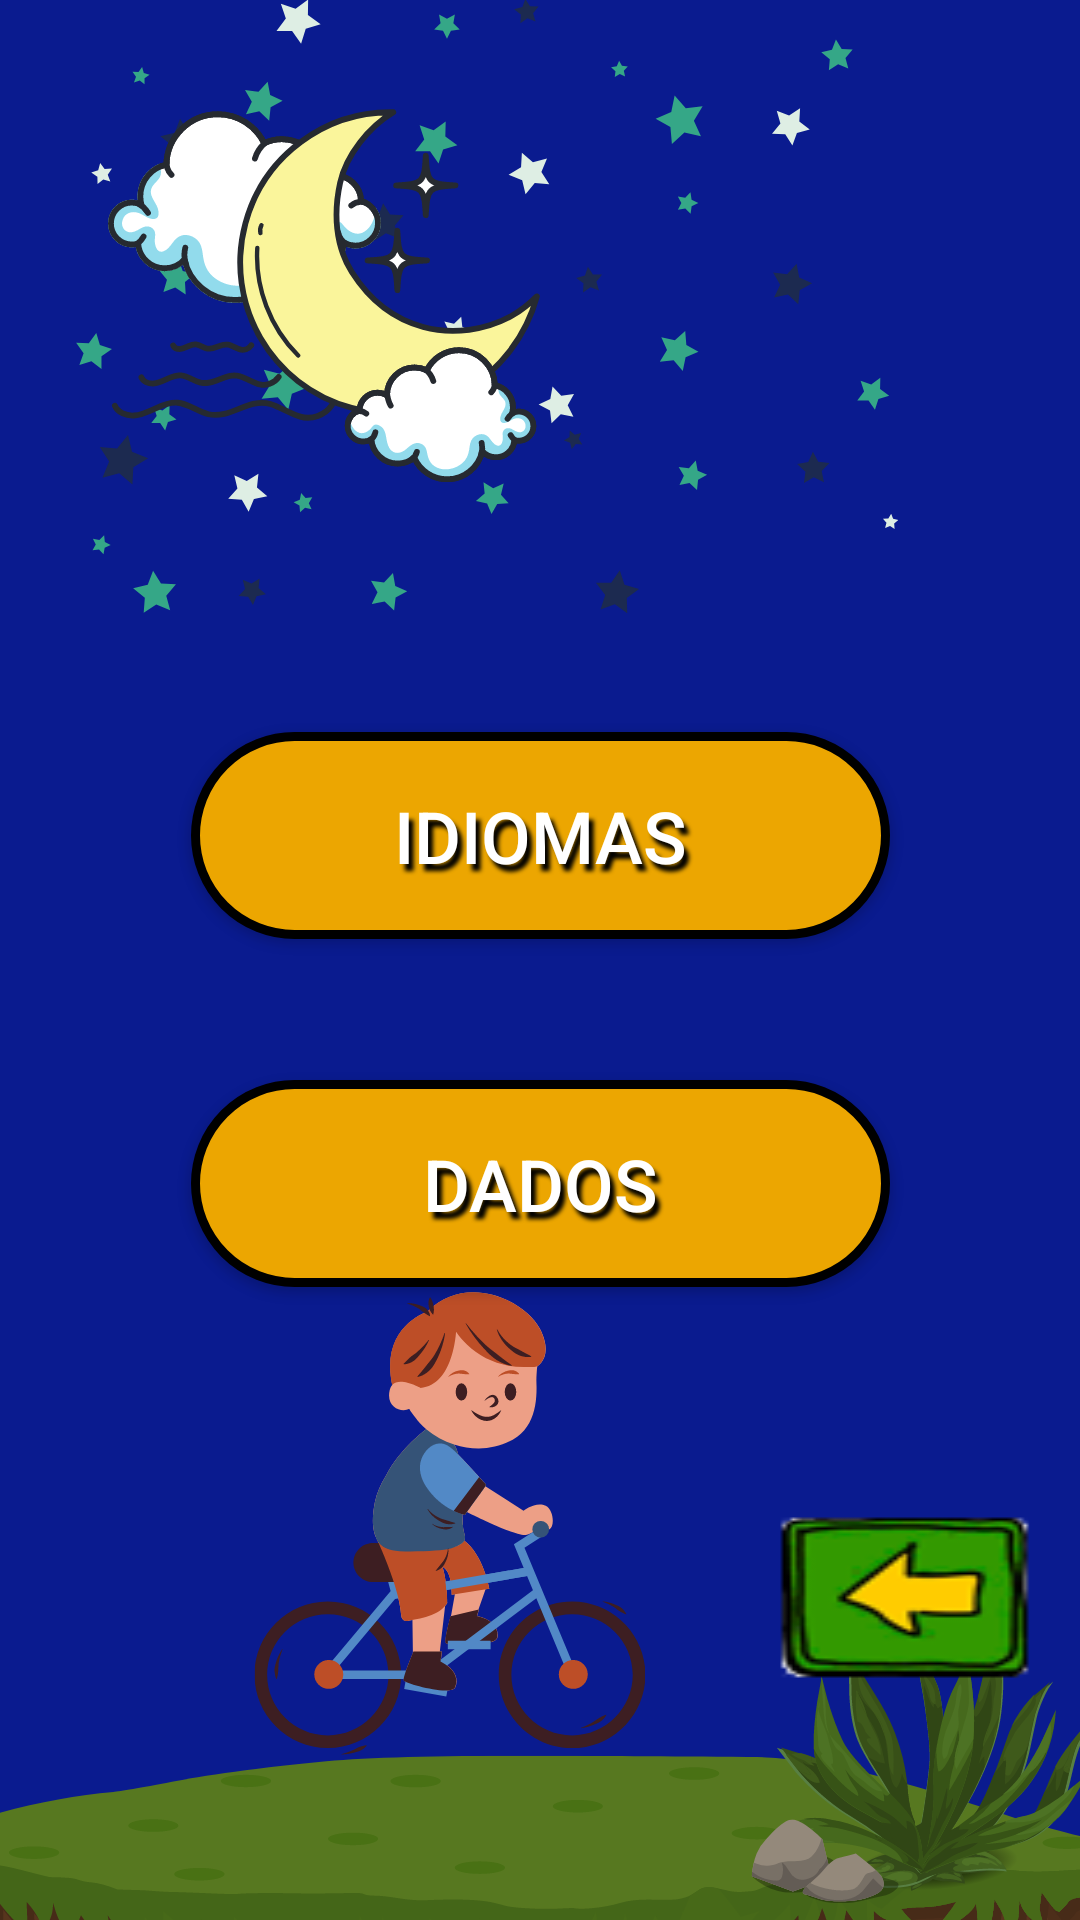

Icon bounding boxes for this 1080x1920 phone screenshot, format (x1, y1, x2, y2):
voltar: (780, 1517, 1029, 1683)
